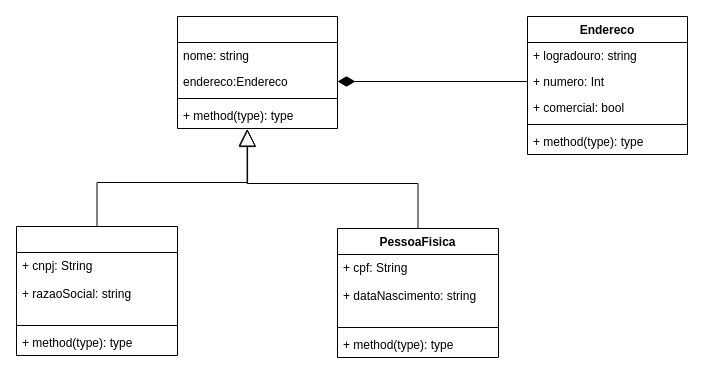
The diagram is 704 pixels wide and 374 high, and some of its shapes have lost their labels. Each missing label, with the box of its shape:
Pessoa: (176, 16, 338, 128)
PessoaJuridica: (16, 226, 178, 356)
